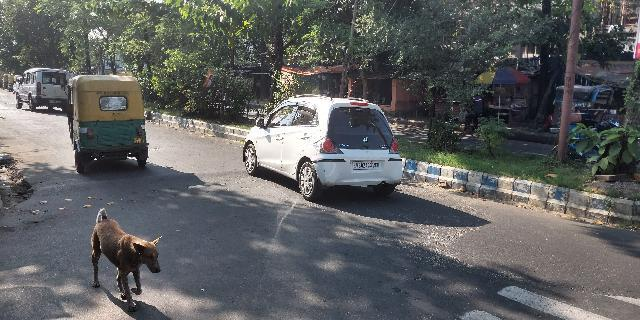Autorickshaw: (67, 68, 161, 169)
Car: (241, 85, 414, 203), (16, 64, 68, 111)
